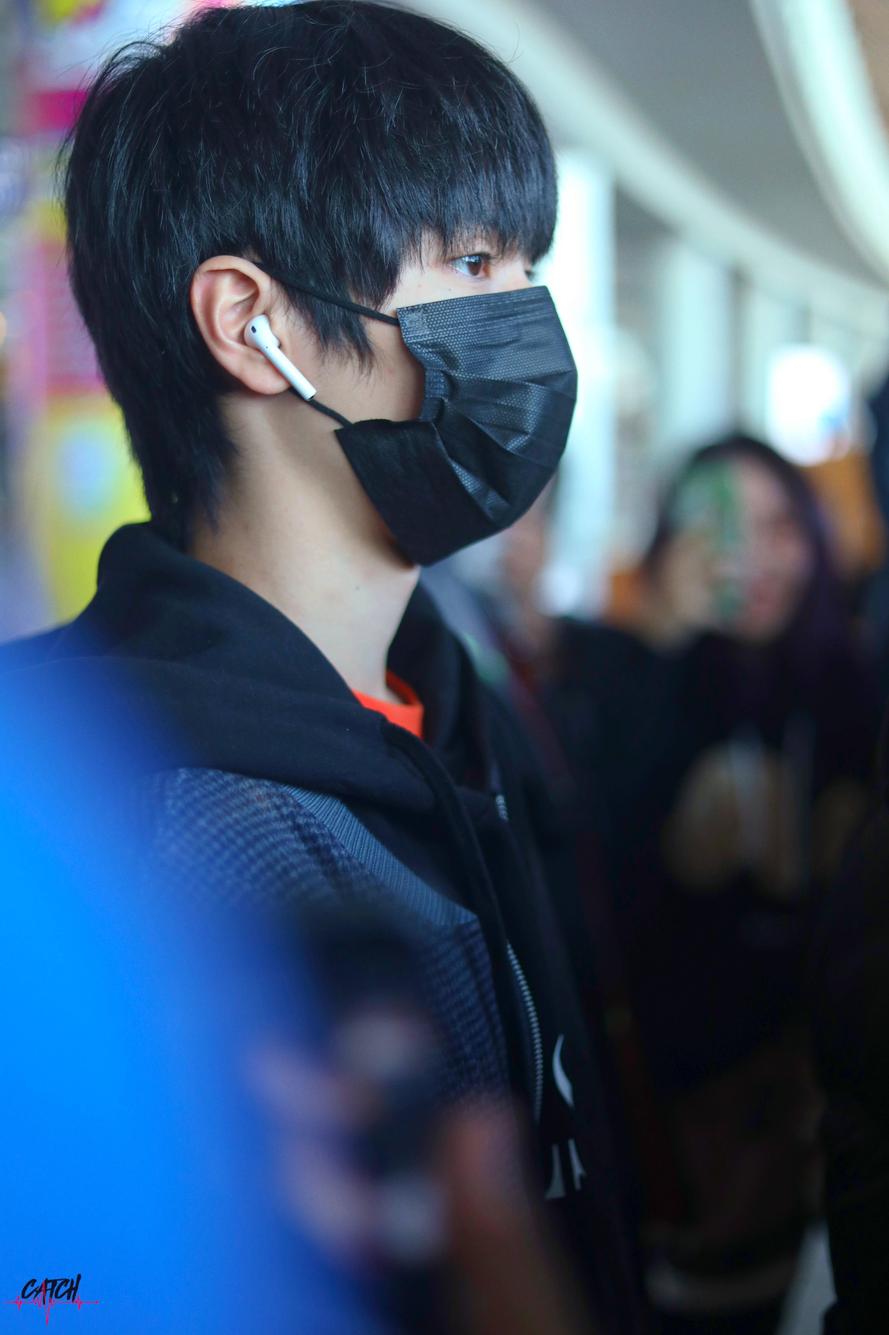OK: (335, 177, 576, 557)
